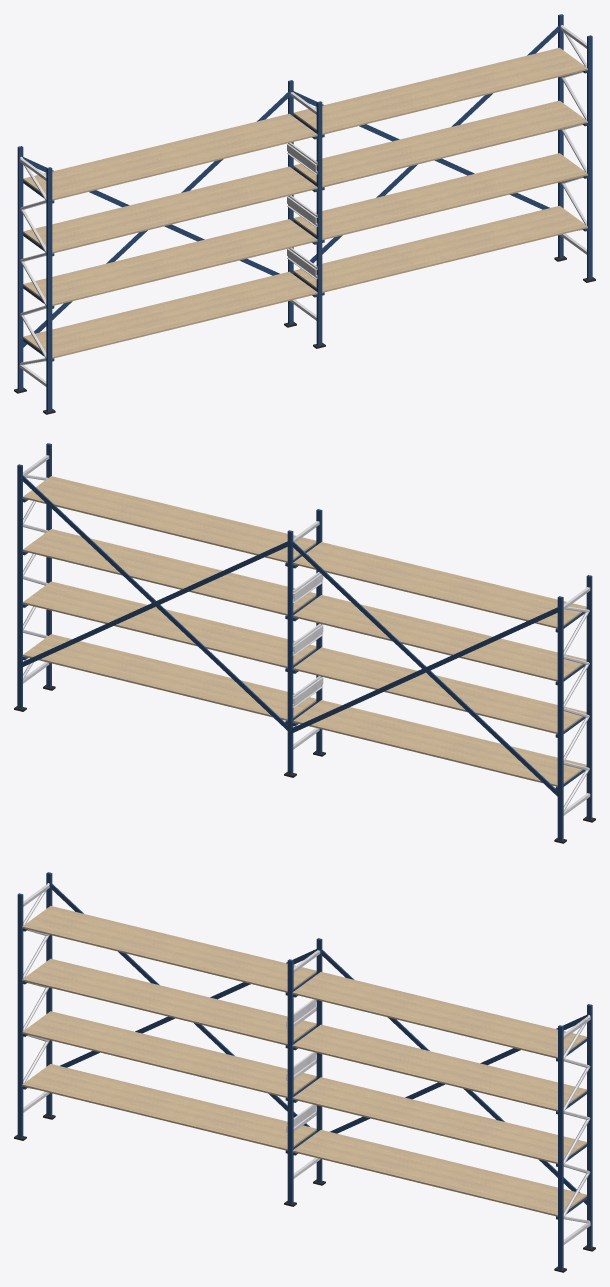
File: BigShelves01.glb
3 renders of one model, top to bottom at view 1: azimuth 30°, elevation 25°; view 2: azimuth 150°, elevation 25°; view 3: azimuth 330°, elevation 25°, orthographic.
Visible parts, largest first — view 1: BigShelves01; view 2: BigShelves01; view 3: BigShelves01.
Boxes of the visible parts, box(x1,y1,x2,y2) form: BigShelves01: box(14, 14, 595, 414); BigShelves01: box(14, 443, 595, 843); BigShelves01: box(14, 872, 595, 1272).
Size of the model in its own units: 17.75 by 7.54 by 1.82.
4 materials, 4 textured.
